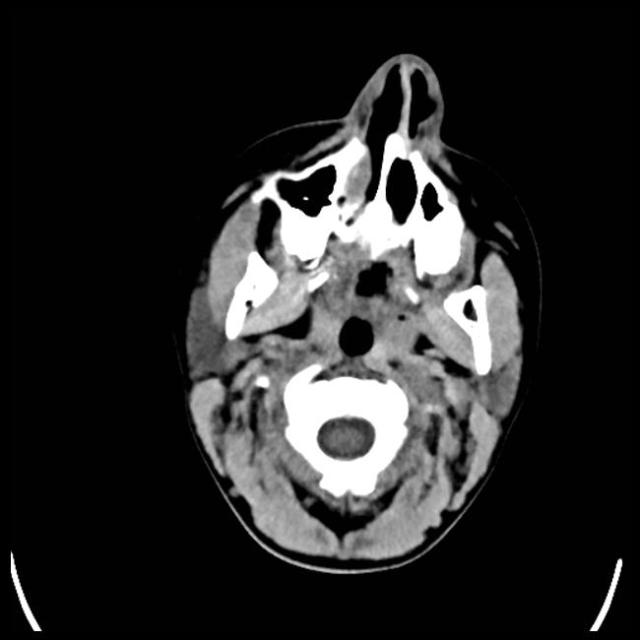lesion: (177, 50, 537, 572)
